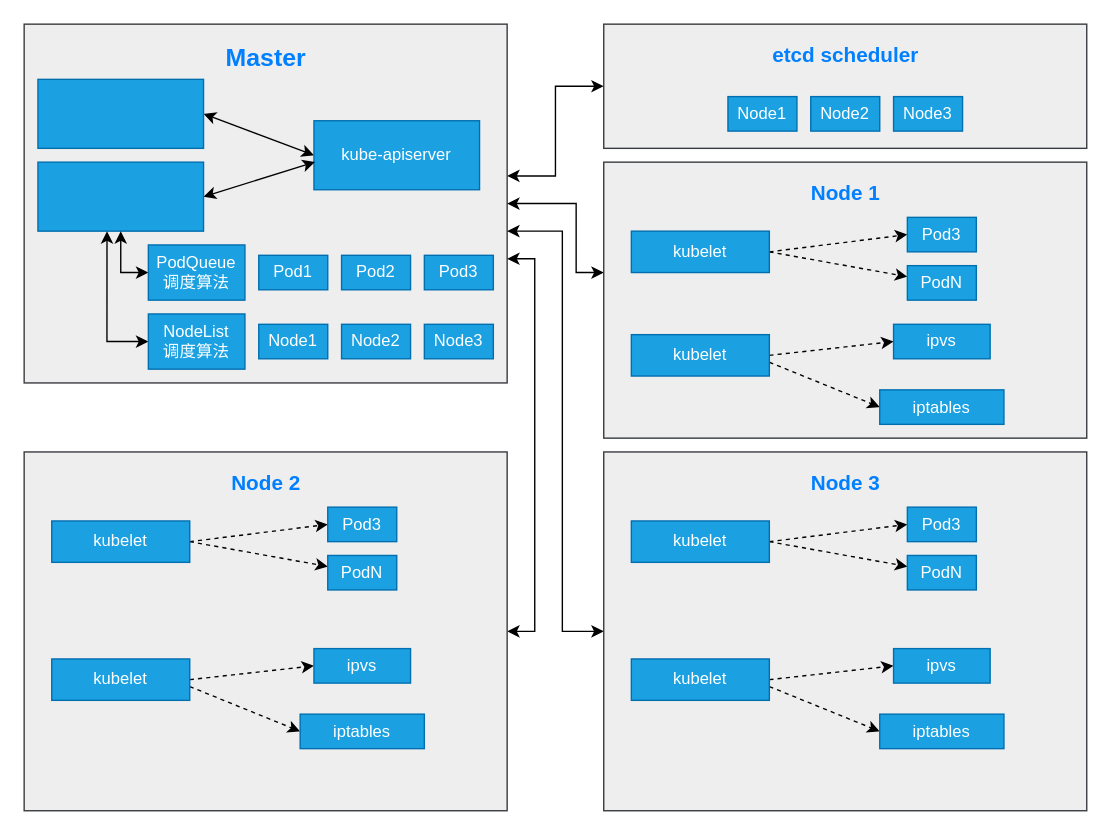
Some shapes in this 1111 by 835 pixel diagram are drawn without their labels. Each missing label, with the centre of its shape:
kube-controller-manager: the point at 120,113
kube-scheduler: the point at 120,196
